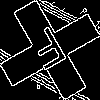F: (25, 25, 75, 80)
